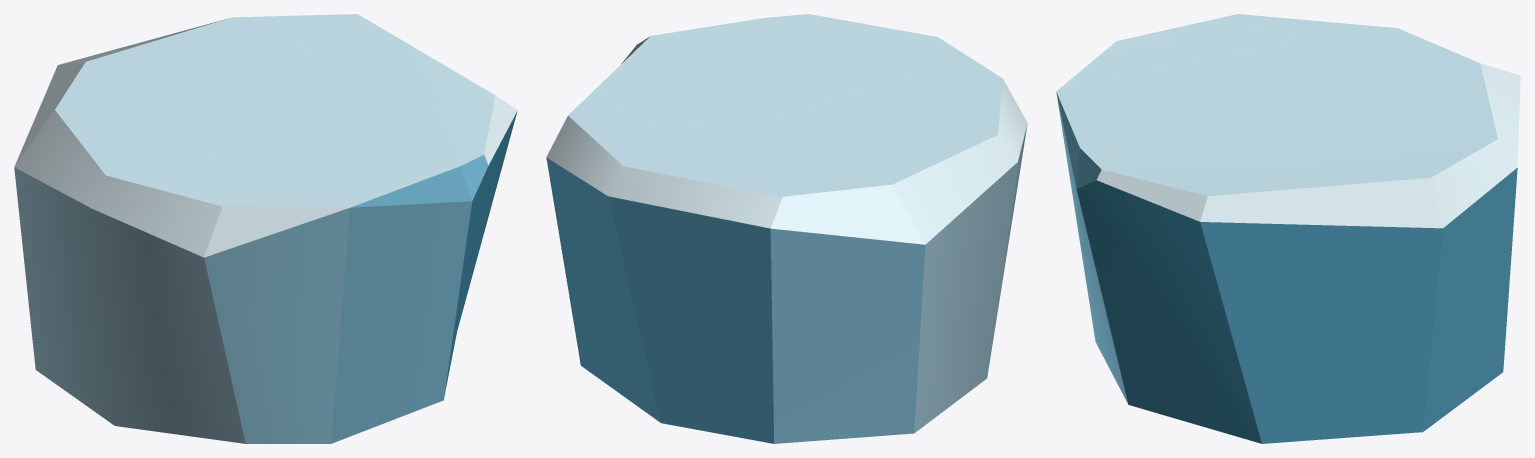
Rendered from stone_001.fbx.
3 views of the same model, side by side, from view 1: azimuth 30°, elevation 25°; view 2: azimuth 150°, elevation 25°; view 3: azimuth 270°, elevation 25° (orthographic). The views are drawn at different scales.
Parts seen in each view (by area): view 1: stone_001; view 2: stone_001; view 3: stone_001.
Boxes of the visible parts, bbox=[...] form: stone_001: bbox=[14, 14, 517, 443]; stone_001: bbox=[546, 14, 1027, 443]; stone_001: bbox=[1056, 14, 1520, 443].
Size of the model in its own units: 320 by 194 by 315.
